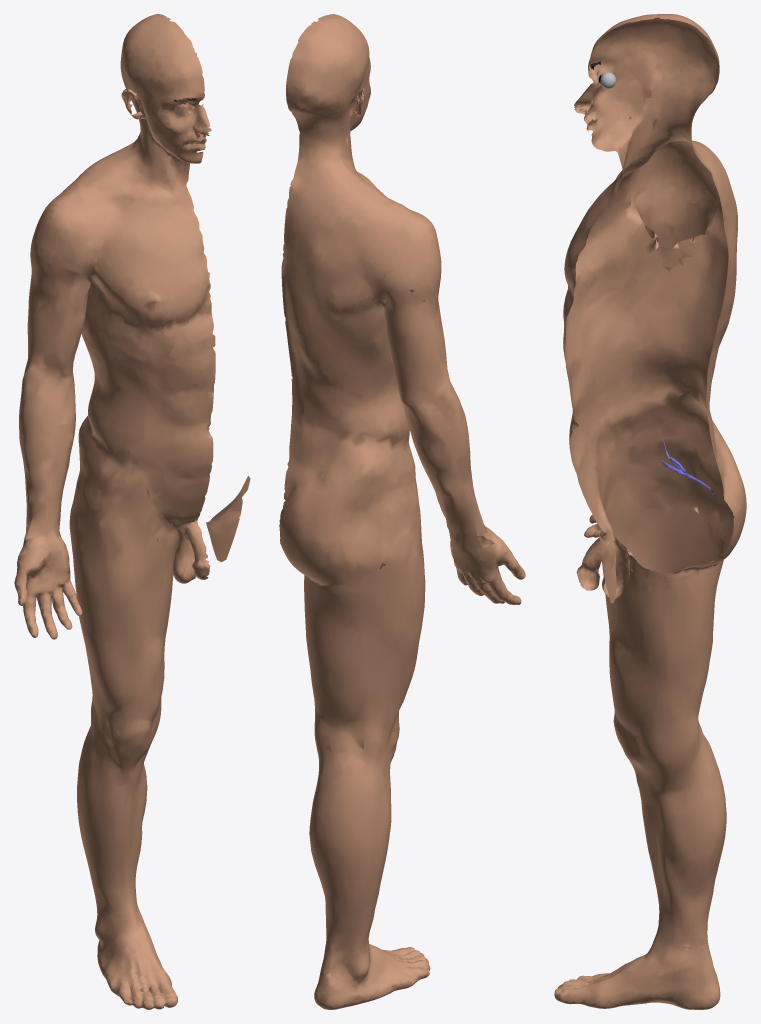
File: atlas_skin.glb
3 renders of one model, left to right at view 1: azimuth 30°, elevation 25°; view 2: azimuth 150°, elevation 25°; view 3: azimuth 270°, elevation 25°, orthographic. The views are drawn at different scales.
Visible parts, largest first — view 1: skin_envelope; view 2: skin_envelope; view 3: skin_envelope.
Boxes of the visible parts, left/top/right/bottom form: skin_envelope: left=14, top=14, right=250, bottom=1009; skin_envelope: left=279, top=14, right=525, bottom=1009; skin_envelope: left=554, top=14, right=746, bottom=1009.
Bounding box in the file's own units: 0.4356 × 1.71 × 0.295.
